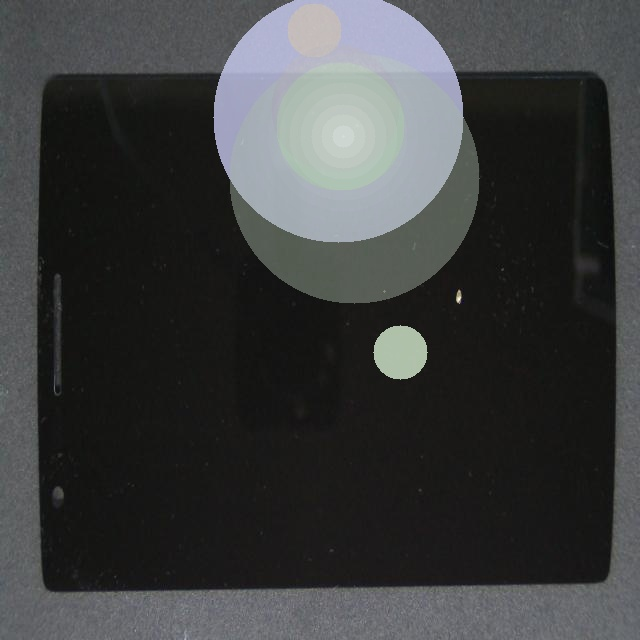stain: (242, 171, 640, 426)
